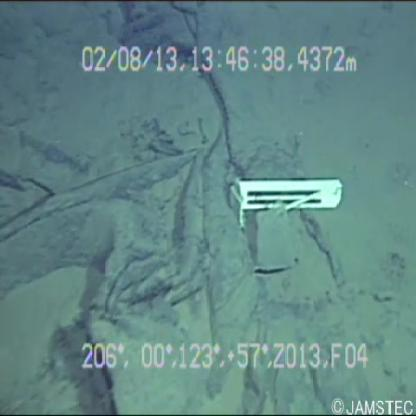Rác: (212, 147, 349, 233)
